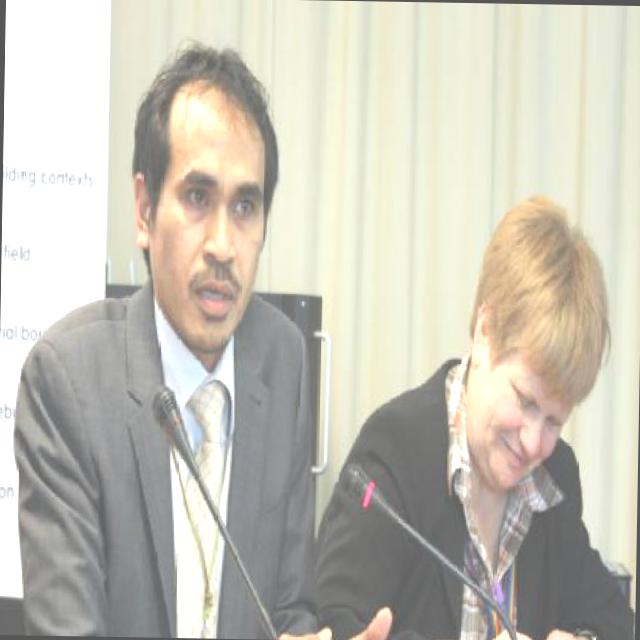Person: (25, 108, 353, 639), (311, 190, 640, 640)
